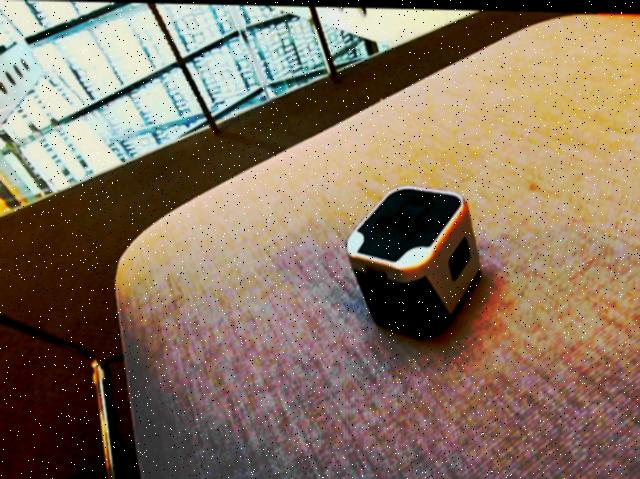adapter: (346, 181, 480, 338)
